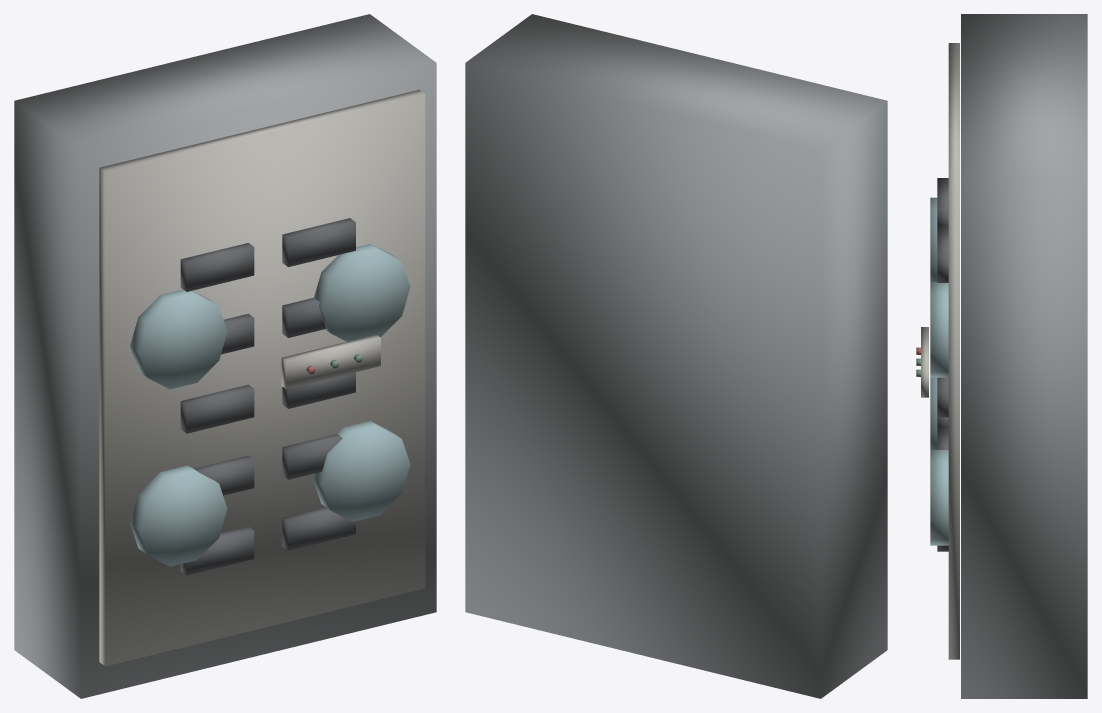
Rendered from meter_bank__deep.glb.
3 views of the same model, side by side, from view 1: azimuth 30°, elevation 25°; view 2: azimuth 150°, elevation 25°; view 3: azimuth 270°, elevation 25° (orthographic). The views are drawn at different scales.
Visible parts, largest first — view 1: world; view 2: world; view 3: world.
Boxes of the visible parts, x1,y1,x2,y2 form: world: (14,14,436,698); world: (465,14,887,698); world: (916,14,1087,698).
Bounding box in the file's own units: 1.05 × 1.55 × 0.4618.
